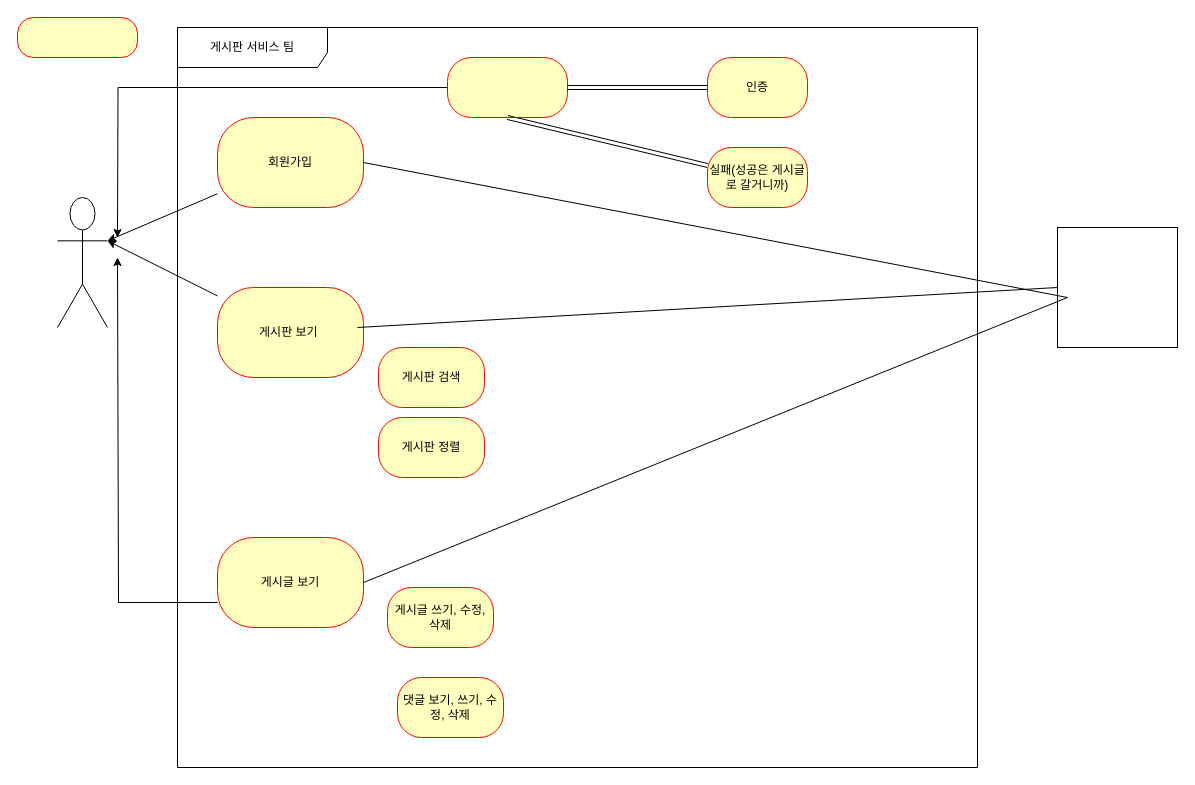
This 1195x785 diagram has some shape labels left out. The shapes that lost their labels are listed below. From the top down, each one's centre as x and y in pixels, then its label:
pixel 77 37: 도메인 모델 설계
pixel 507 87: 회원 로그인
pixel 82 262: Actor
pixel 1117 287: db
